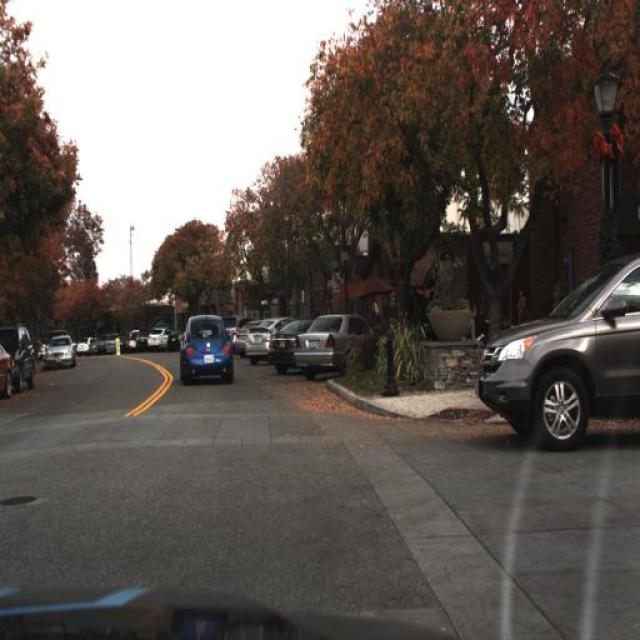car: (474, 246, 638, 434), (295, 312, 376, 382), (177, 308, 235, 386), (1, 323, 37, 392), (244, 308, 288, 364), (270, 313, 310, 363), (44, 332, 77, 368), (0, 342, 12, 399), (148, 324, 168, 350), (77, 334, 93, 354)
trafficLight: (370, 296, 384, 346), (553, 277, 565, 322), (515, 285, 527, 327)
